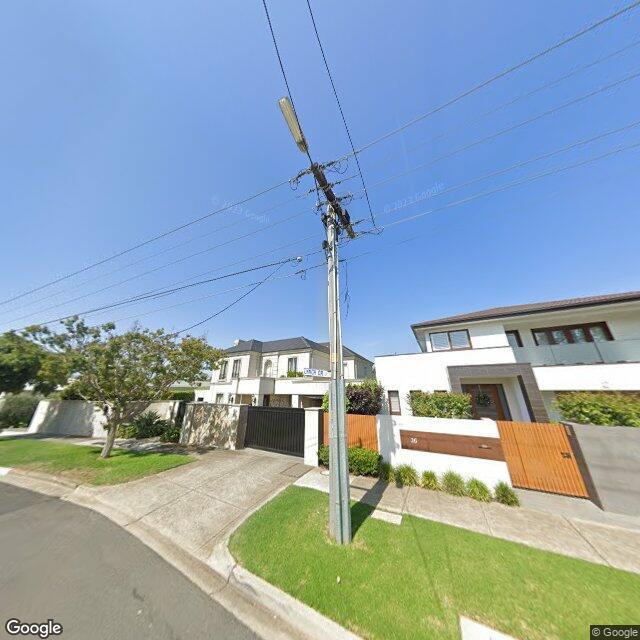crossarm: (311, 162, 355, 238)
streetlight: (279, 96, 314, 168)
timber-pole: (327, 193, 352, 545)
